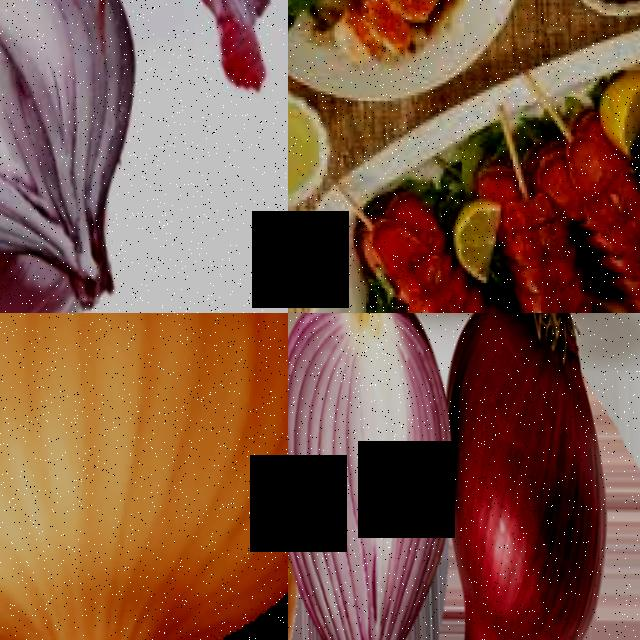lemon: (449, 193, 504, 282), (596, 59, 640, 153)
lobster tails: (536, 133, 640, 236), (512, 209, 597, 313)
onion: (0, 313, 288, 640), (441, 313, 617, 640), (288, 313, 459, 640), (0, 0, 140, 230)
